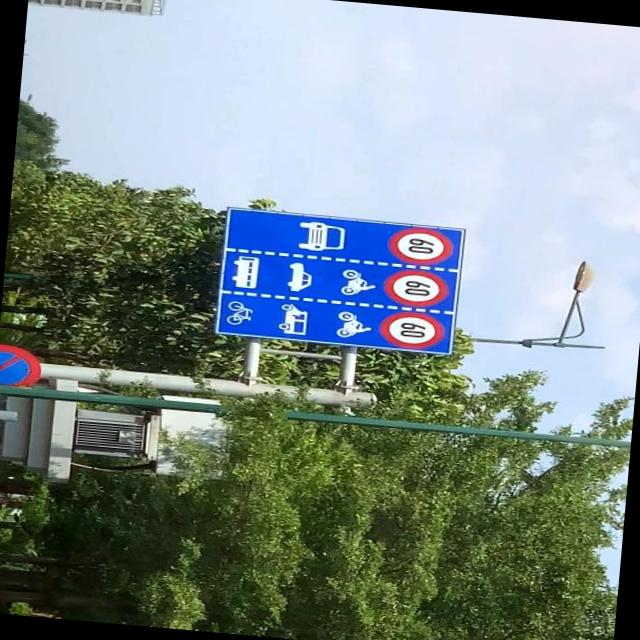P-127c: (215, 207, 463, 356)
